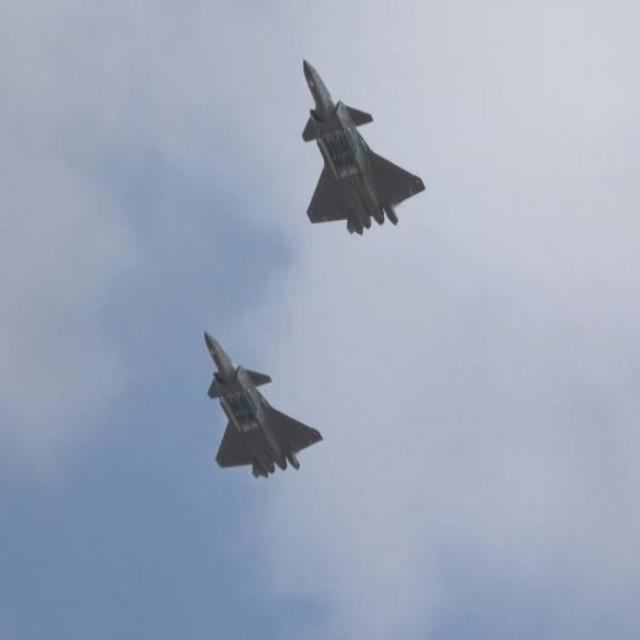MIL_Plane: (309, 58, 417, 237), (203, 329, 324, 480)
